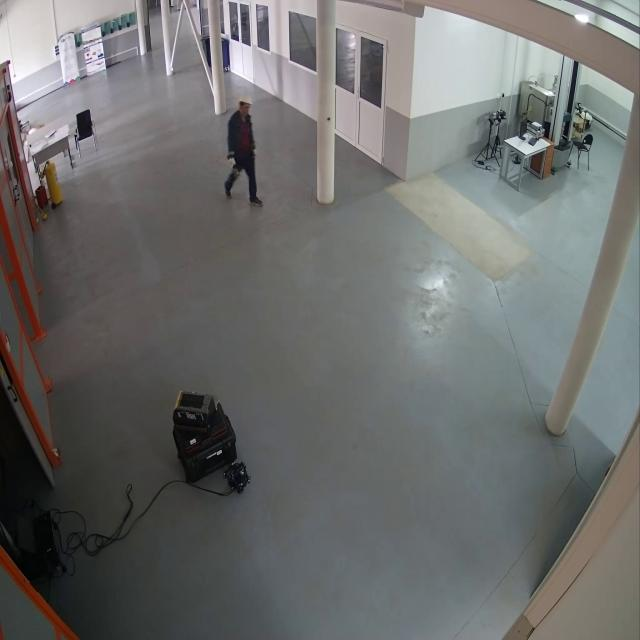Hardhat: (240, 94, 252, 106)
Person: (222, 92, 264, 208)
